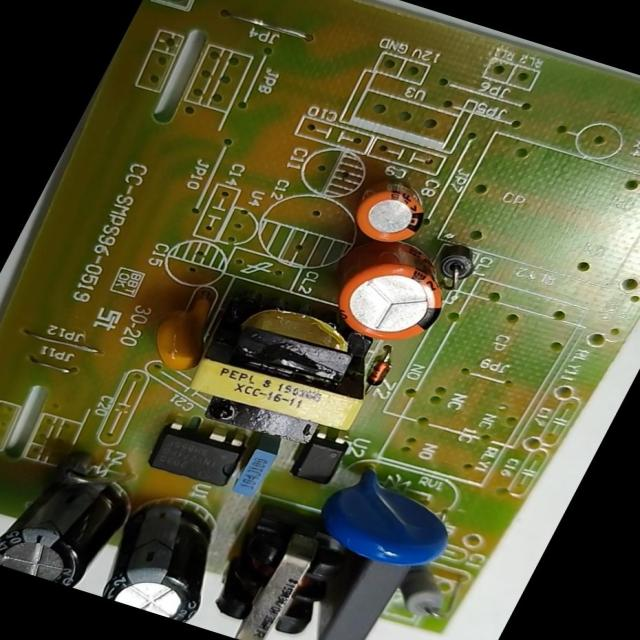Cap1: (312, 230, 468, 357)
Cap2: (338, 172, 444, 256)
Cap3: (91, 488, 250, 626)
Cap4: (0, 449, 142, 591)
MOSFET: (139, 416, 259, 497)
Mov: (306, 458, 474, 579)
Resistor: (381, 558, 464, 630)
Transformer: (166, 281, 408, 458), (189, 500, 371, 640)
